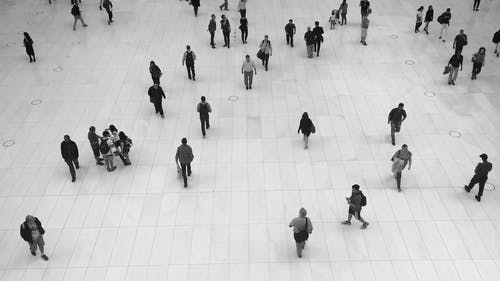person: (340, 182, 375, 232), (464, 151, 494, 204), (21, 216, 51, 263), (289, 207, 315, 259), (172, 137, 199, 187), (57, 131, 82, 183), (389, 145, 417, 190), (387, 101, 409, 147), (295, 111, 318, 152), (256, 33, 276, 73), (179, 44, 199, 83), (197, 95, 215, 138), (98, 132, 117, 172), (239, 53, 260, 88), (86, 125, 103, 168), (148, 83, 167, 118), (20, 31, 39, 63), (447, 51, 464, 86), (108, 123, 123, 162), (118, 131, 135, 165), (437, 5, 451, 46), (219, 13, 234, 50), (70, 2, 89, 30), (283, 17, 300, 47), (472, 46, 487, 79), (303, 22, 316, 60), (423, 2, 436, 38), (312, 20, 324, 56), (208, 12, 219, 50), (236, 14, 249, 46), (453, 27, 469, 53), (147, 60, 164, 84), (100, 1, 117, 25), (360, 13, 371, 50), (338, 1, 351, 28), (414, 5, 423, 33), (327, 10, 339, 31)
